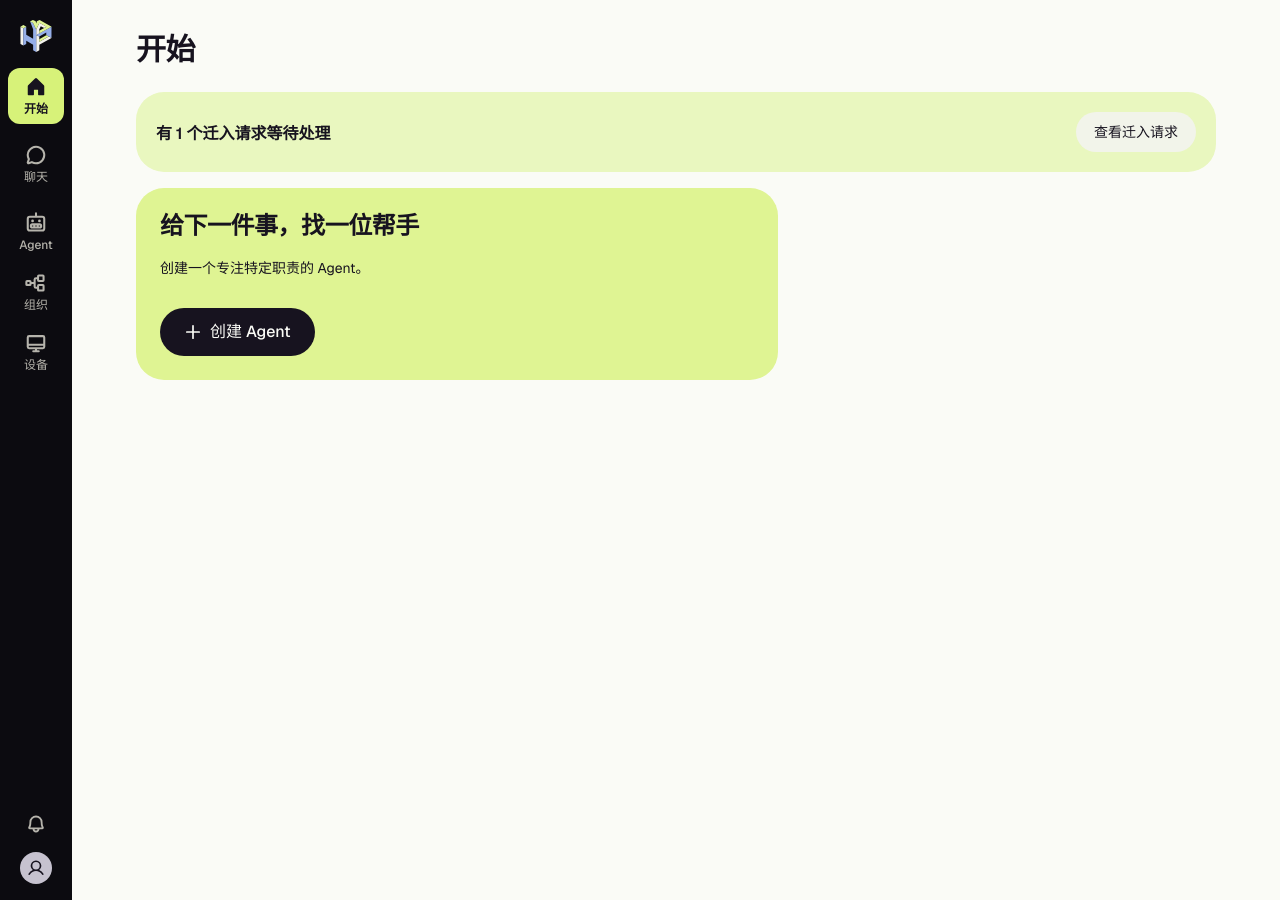
组织页：所有者视角 › 新建组织：就地校验，成功后询问是否设为当前组织
Click the button "组织".
click(36, 292)  # box 8,264 -> 64,320
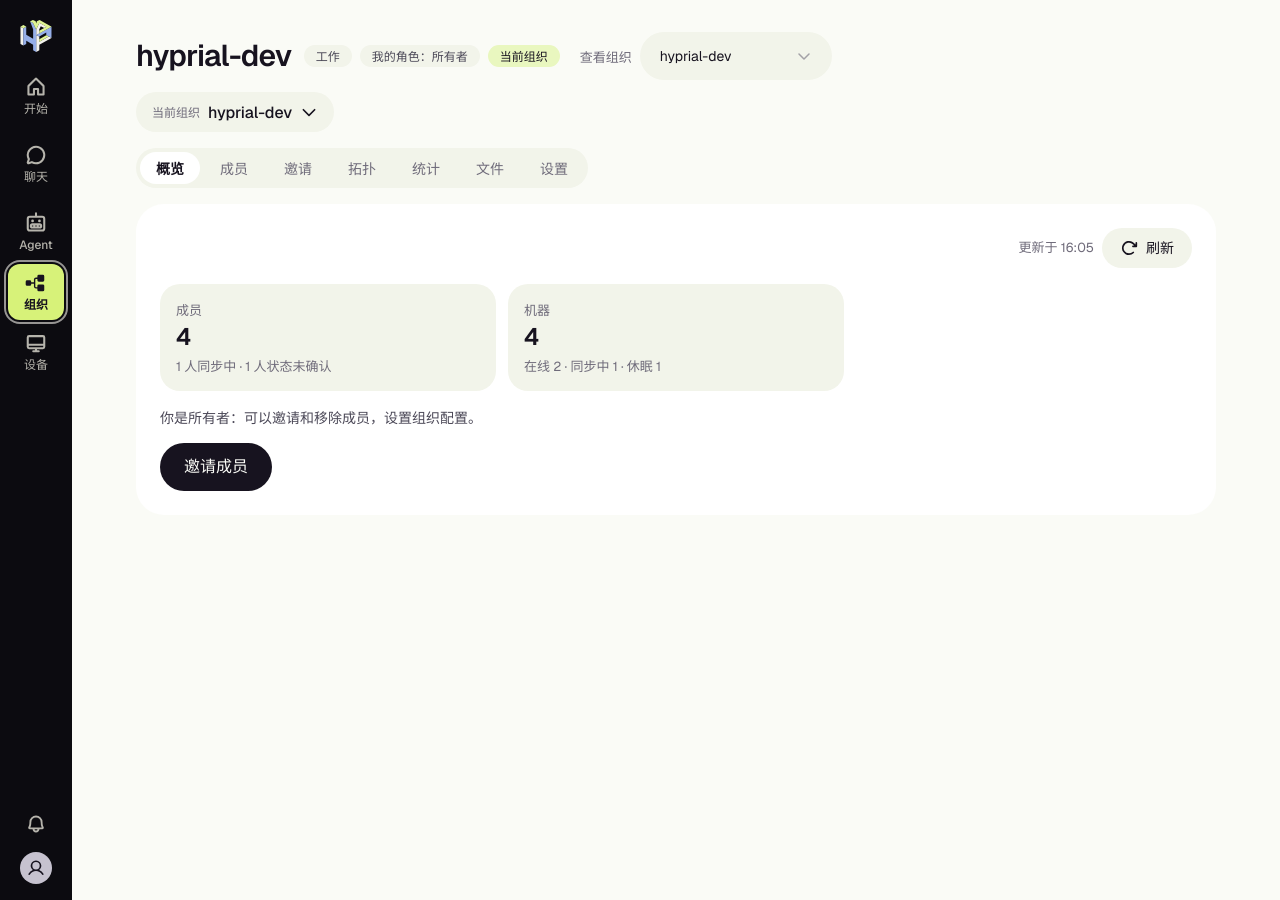
Click the button with aria-label "组织切换器：hyprial-dev".
click(235, 112)  # box 136,92 -> 334,132
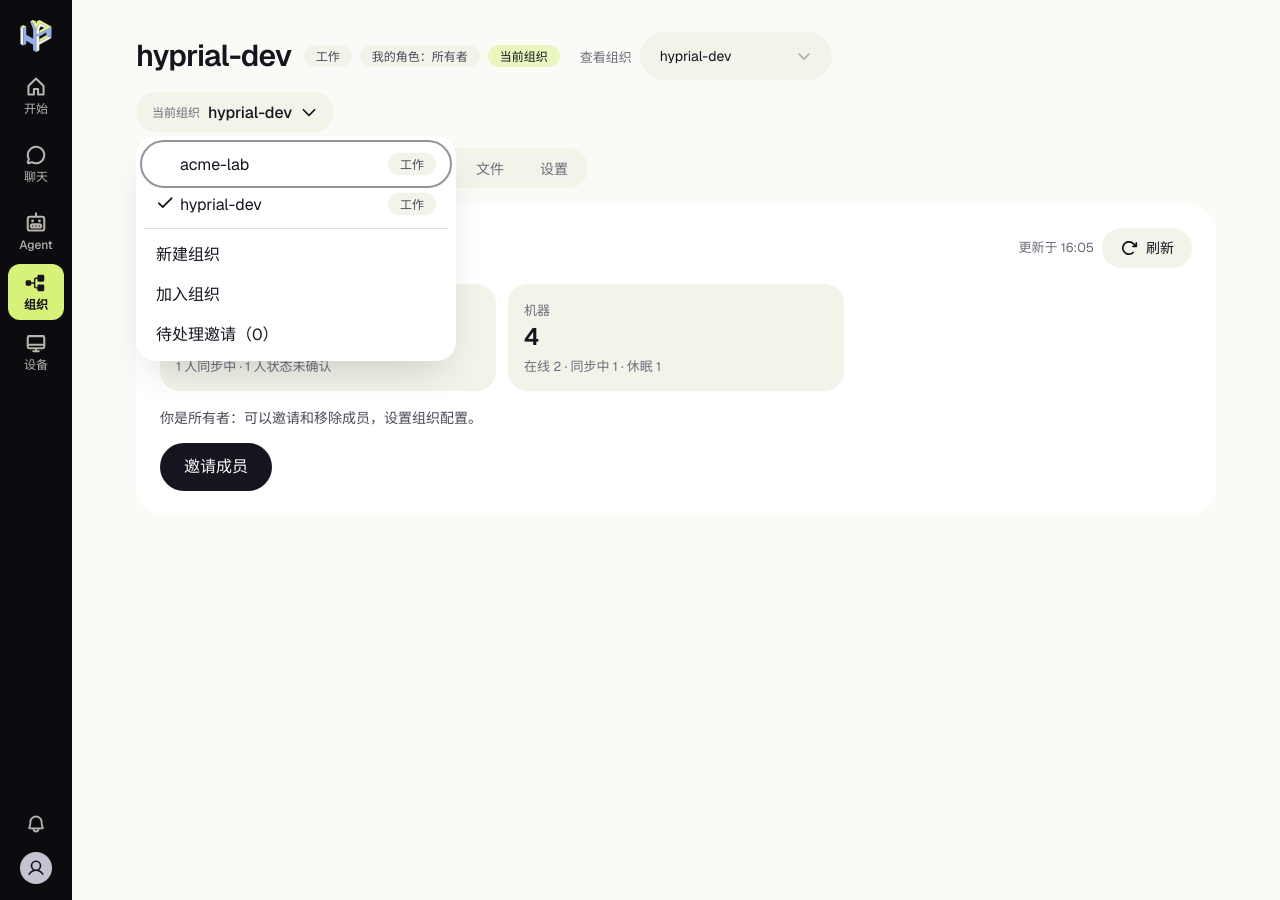
Click the menu item "新建组织".
click(188, 254)  # box 144,233 -> 448,273
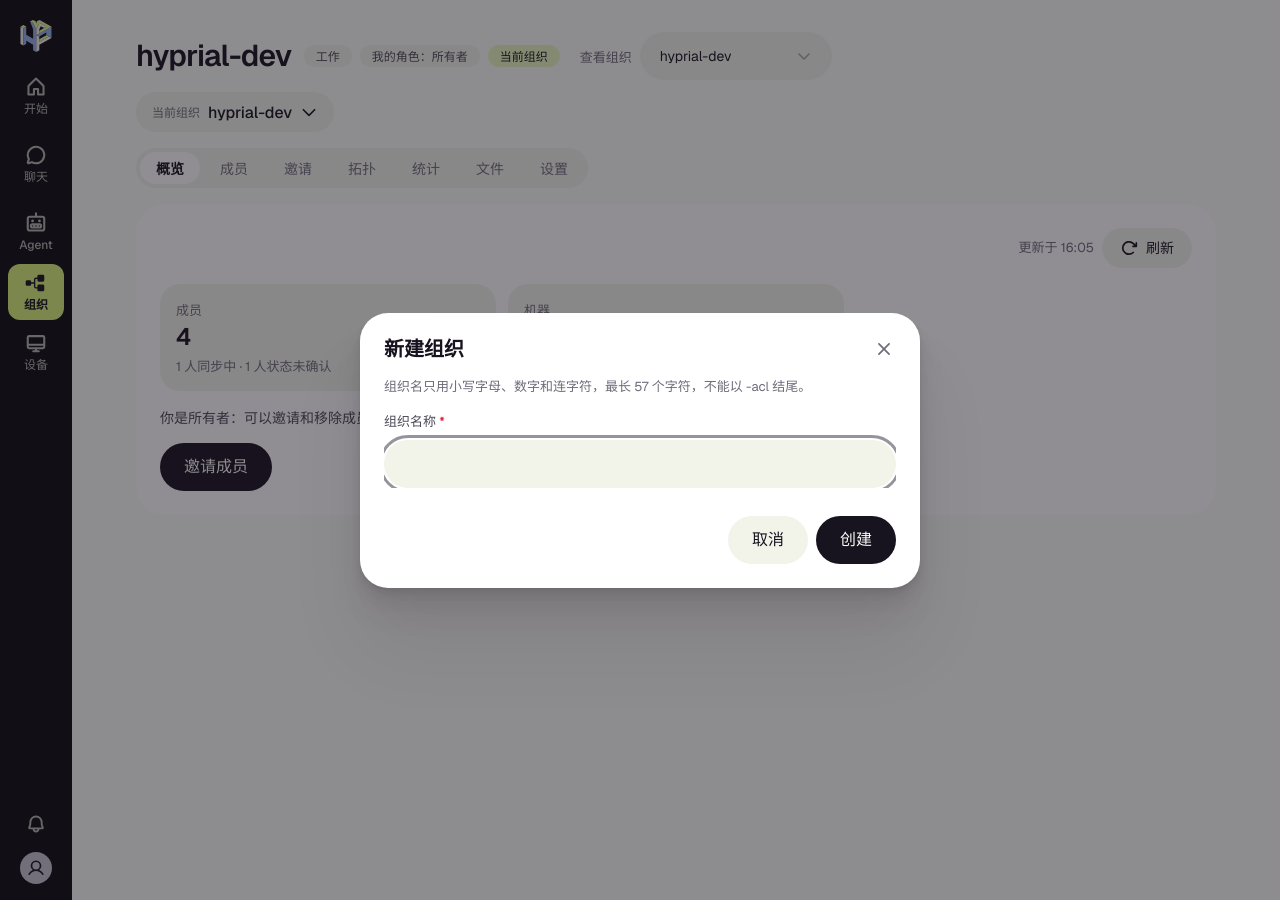
Type "Growth Team" into the field labelled "组织名称 *".
click(640, 464); type("Growth Team")  # box 384,440 -> 896,488
Click the button "创建".
click(856, 540)  # box 816,516 -> 896,564
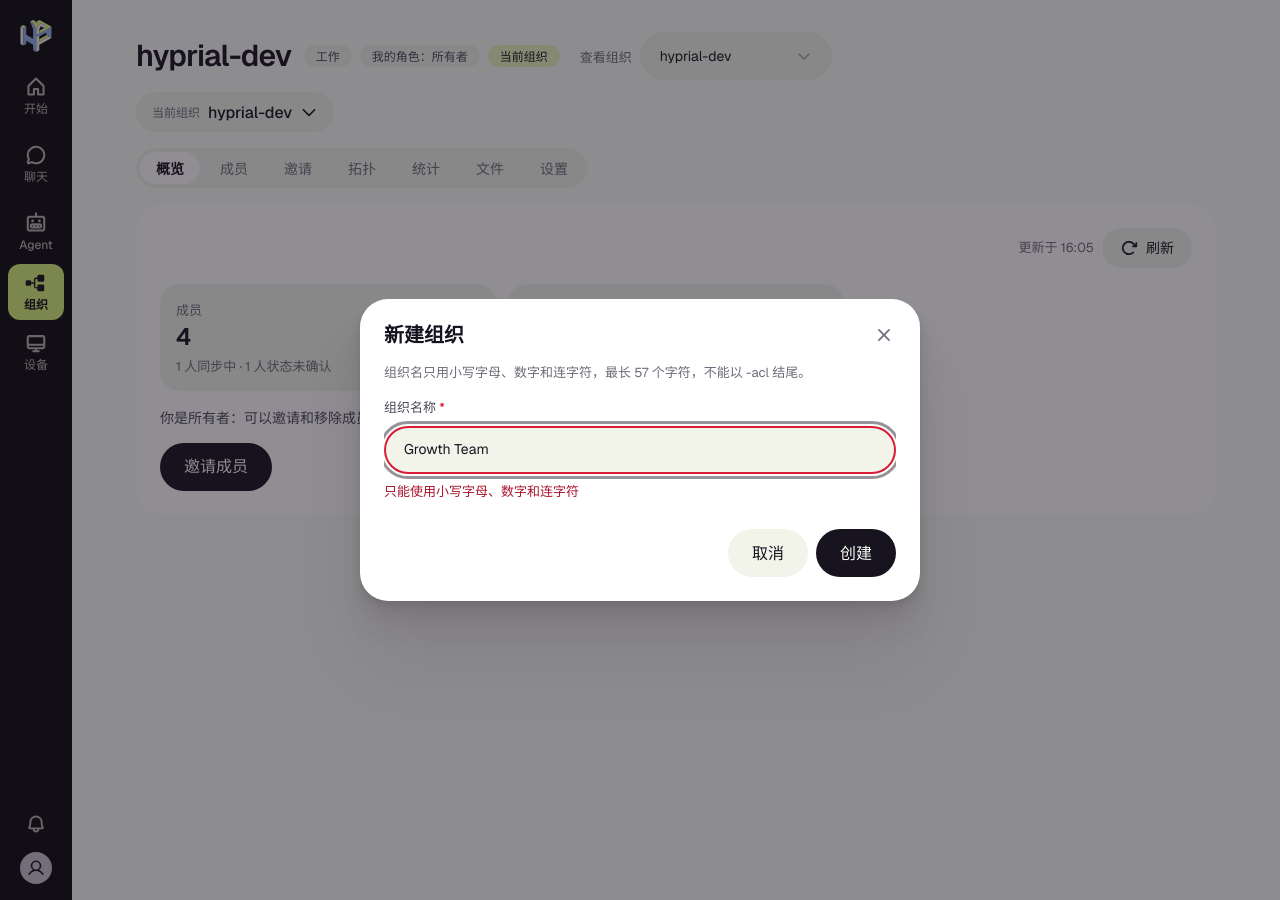
expect the text "只能使用小写字母、数字和连字符" is shown: met, box 384,483 -> 579,500
Replace the text in the field labelled "组织名称 *" with "growth-team" at coordinates (640, 450), box 384,426 -> 896,474
Click the button "创建".
click(856, 553)  # box 816,529 -> 896,577
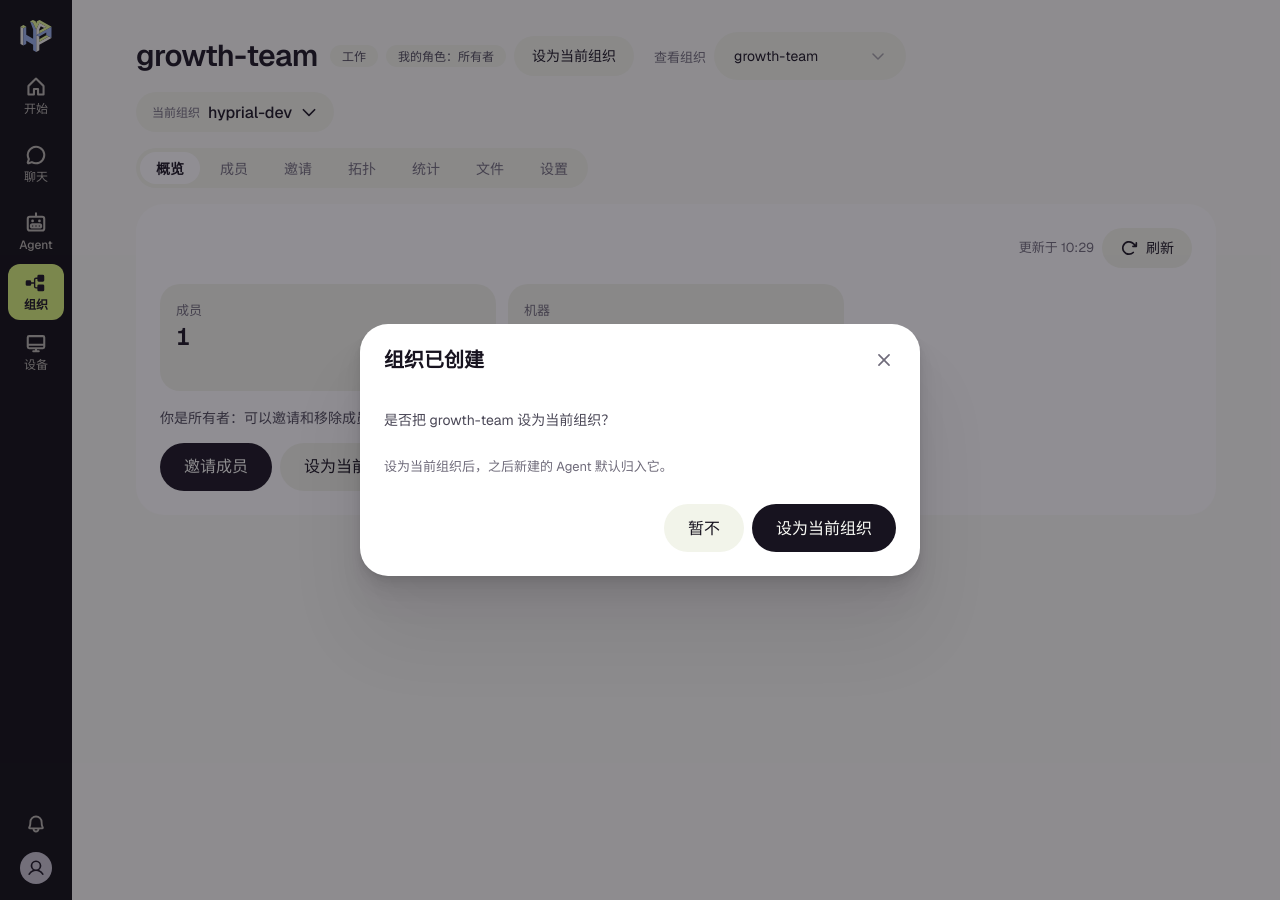
Click the button "设为当前组织".
click(824, 528)  # box 752,504 -> 896,552
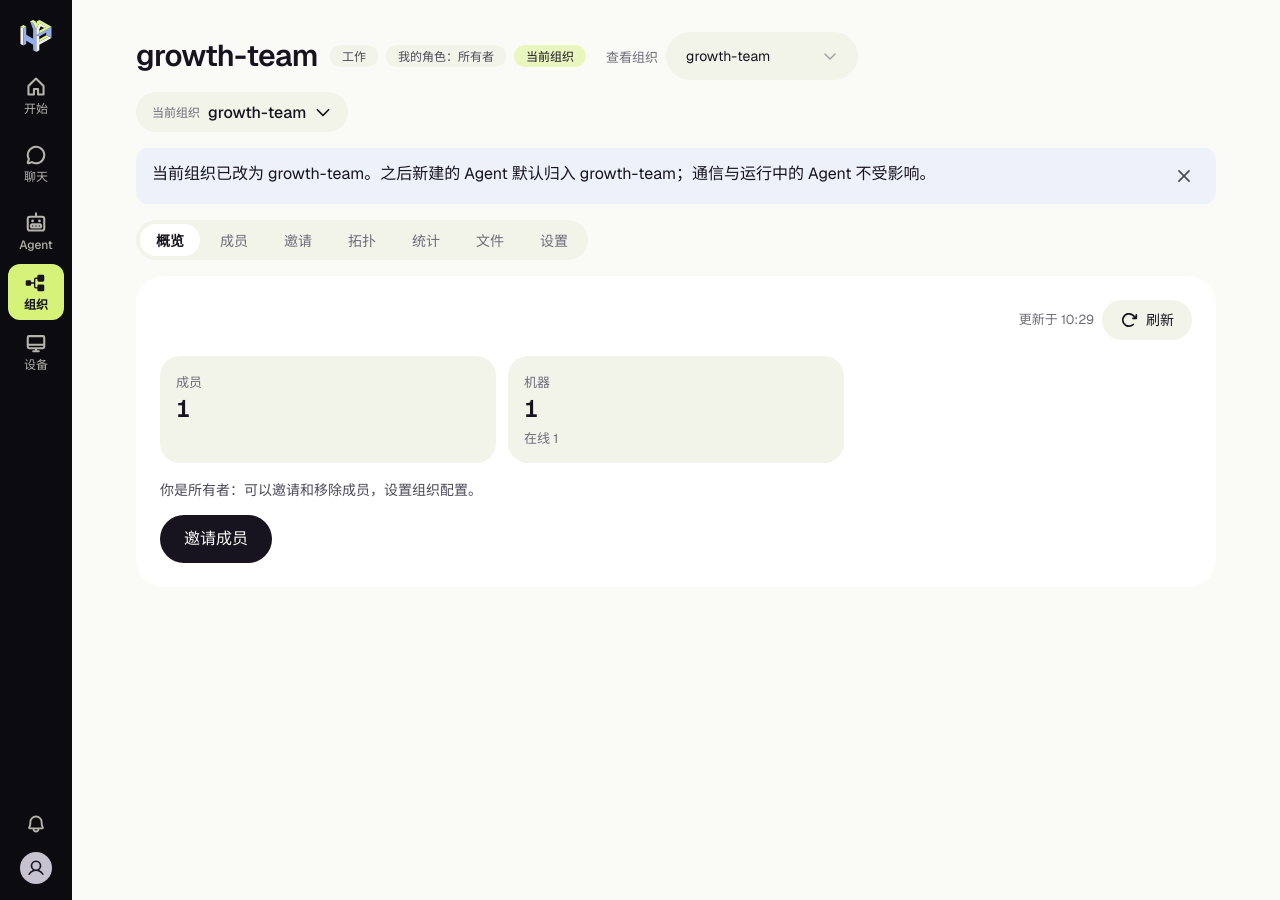
expect the heading "growth-team" is shown: met, box 136,38 -> 318,74
expect the text "当前组织已改为 growth-team" is shown: met, box 152,163 -> 936,184
